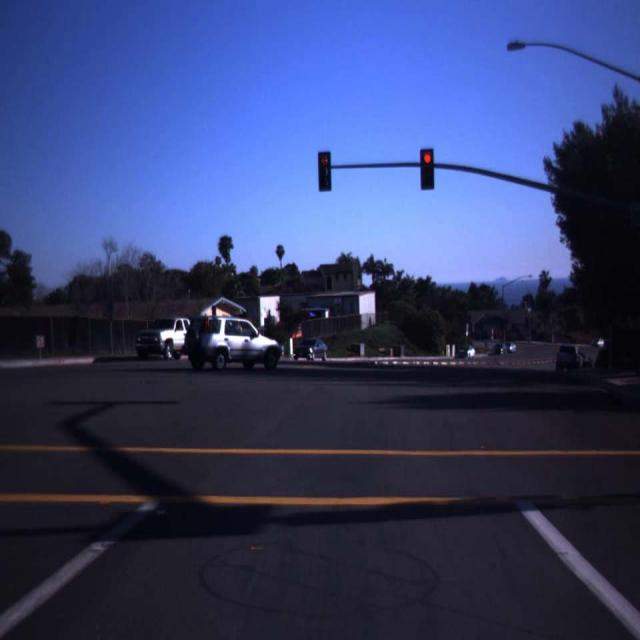kirmizi: (420, 148, 435, 192)
